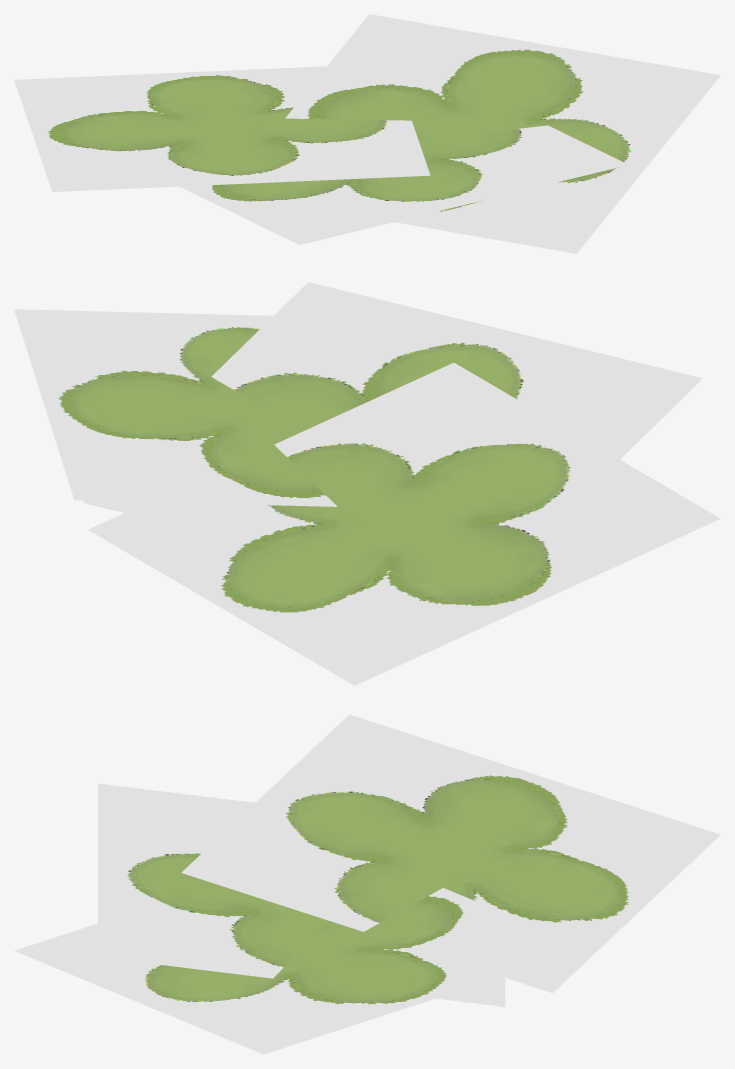
File: Grass.fbx
3 renders of one model, top to bottom at view 1: azimuth 30°, elevation 25°; view 2: azimuth 150°, elevation 25°; view 3: azimuth 270°, elevation 25°, orthographic. The views are drawn at different scales.
Visible parts, largest first — view 1: Grass; view 2: Grass; view 3: Grass.
Boxes of the visible parts, x1,y1,x2,y2 form: Grass: (14, 14, 720, 253); Grass: (14, 282, 720, 685); Grass: (14, 714, 720, 1054).
Bounding box in the file's own units: 0.9779 × 0.0686 × 0.8804.
